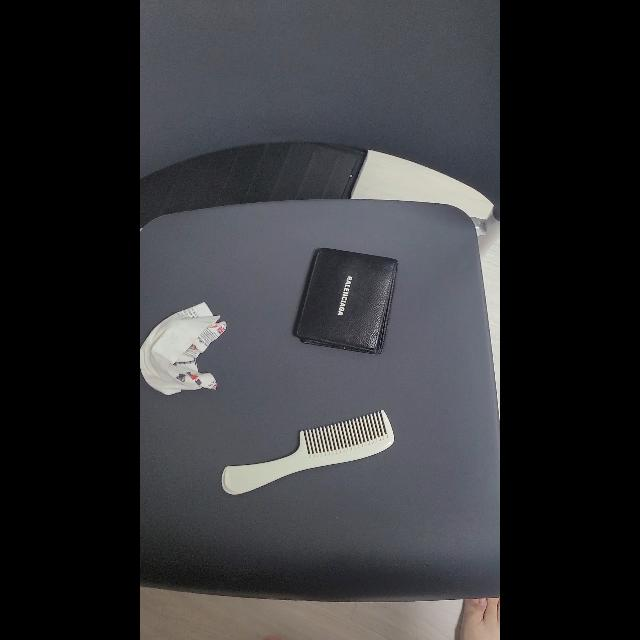COMB: (220, 409, 396, 495)
Glasses cleaning cloth: (140, 300, 228, 396)
WALLET: (293, 248, 399, 354)
